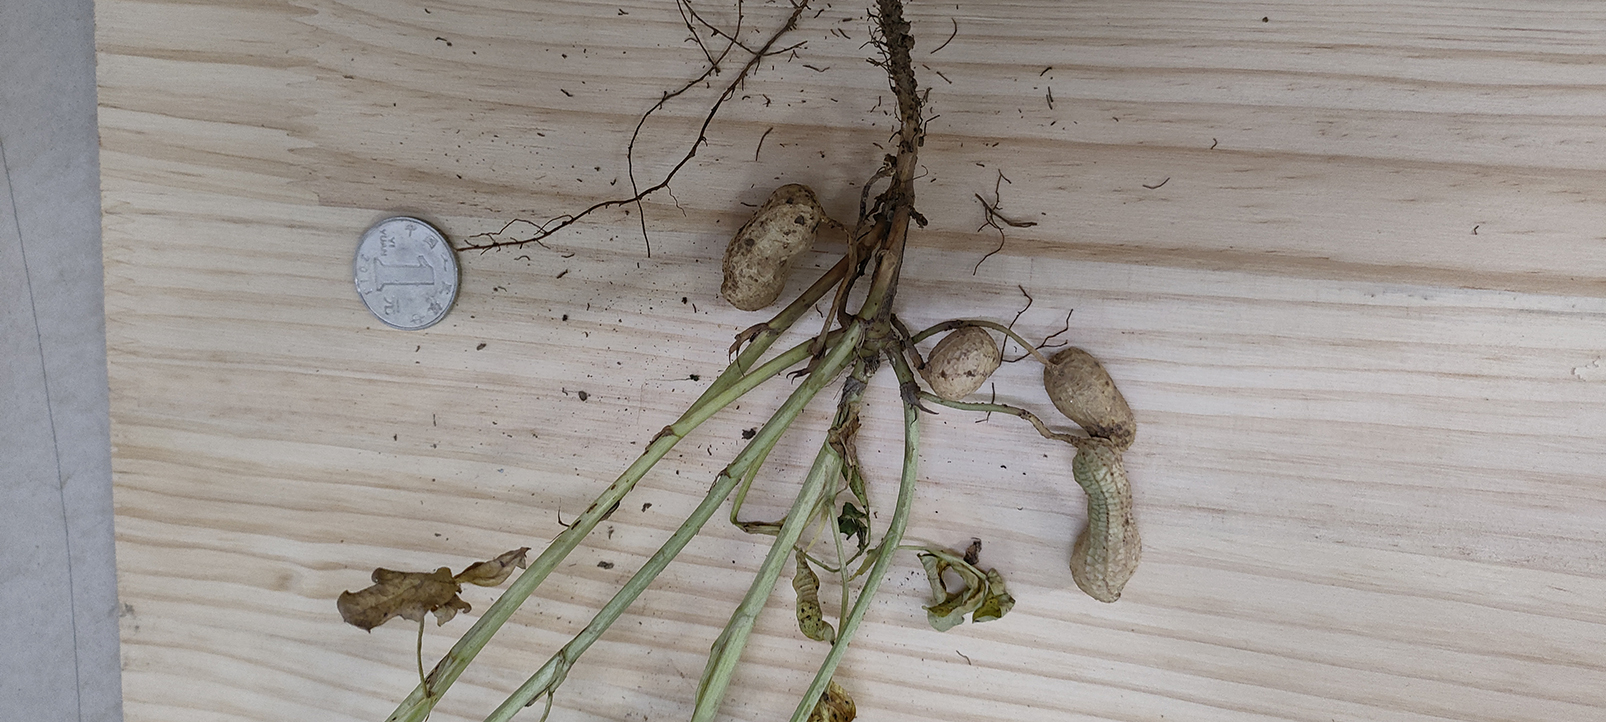h: (1070, 440, 1143, 605), (723, 185, 817, 312), (1045, 345, 1138, 445), (927, 322, 999, 401)
